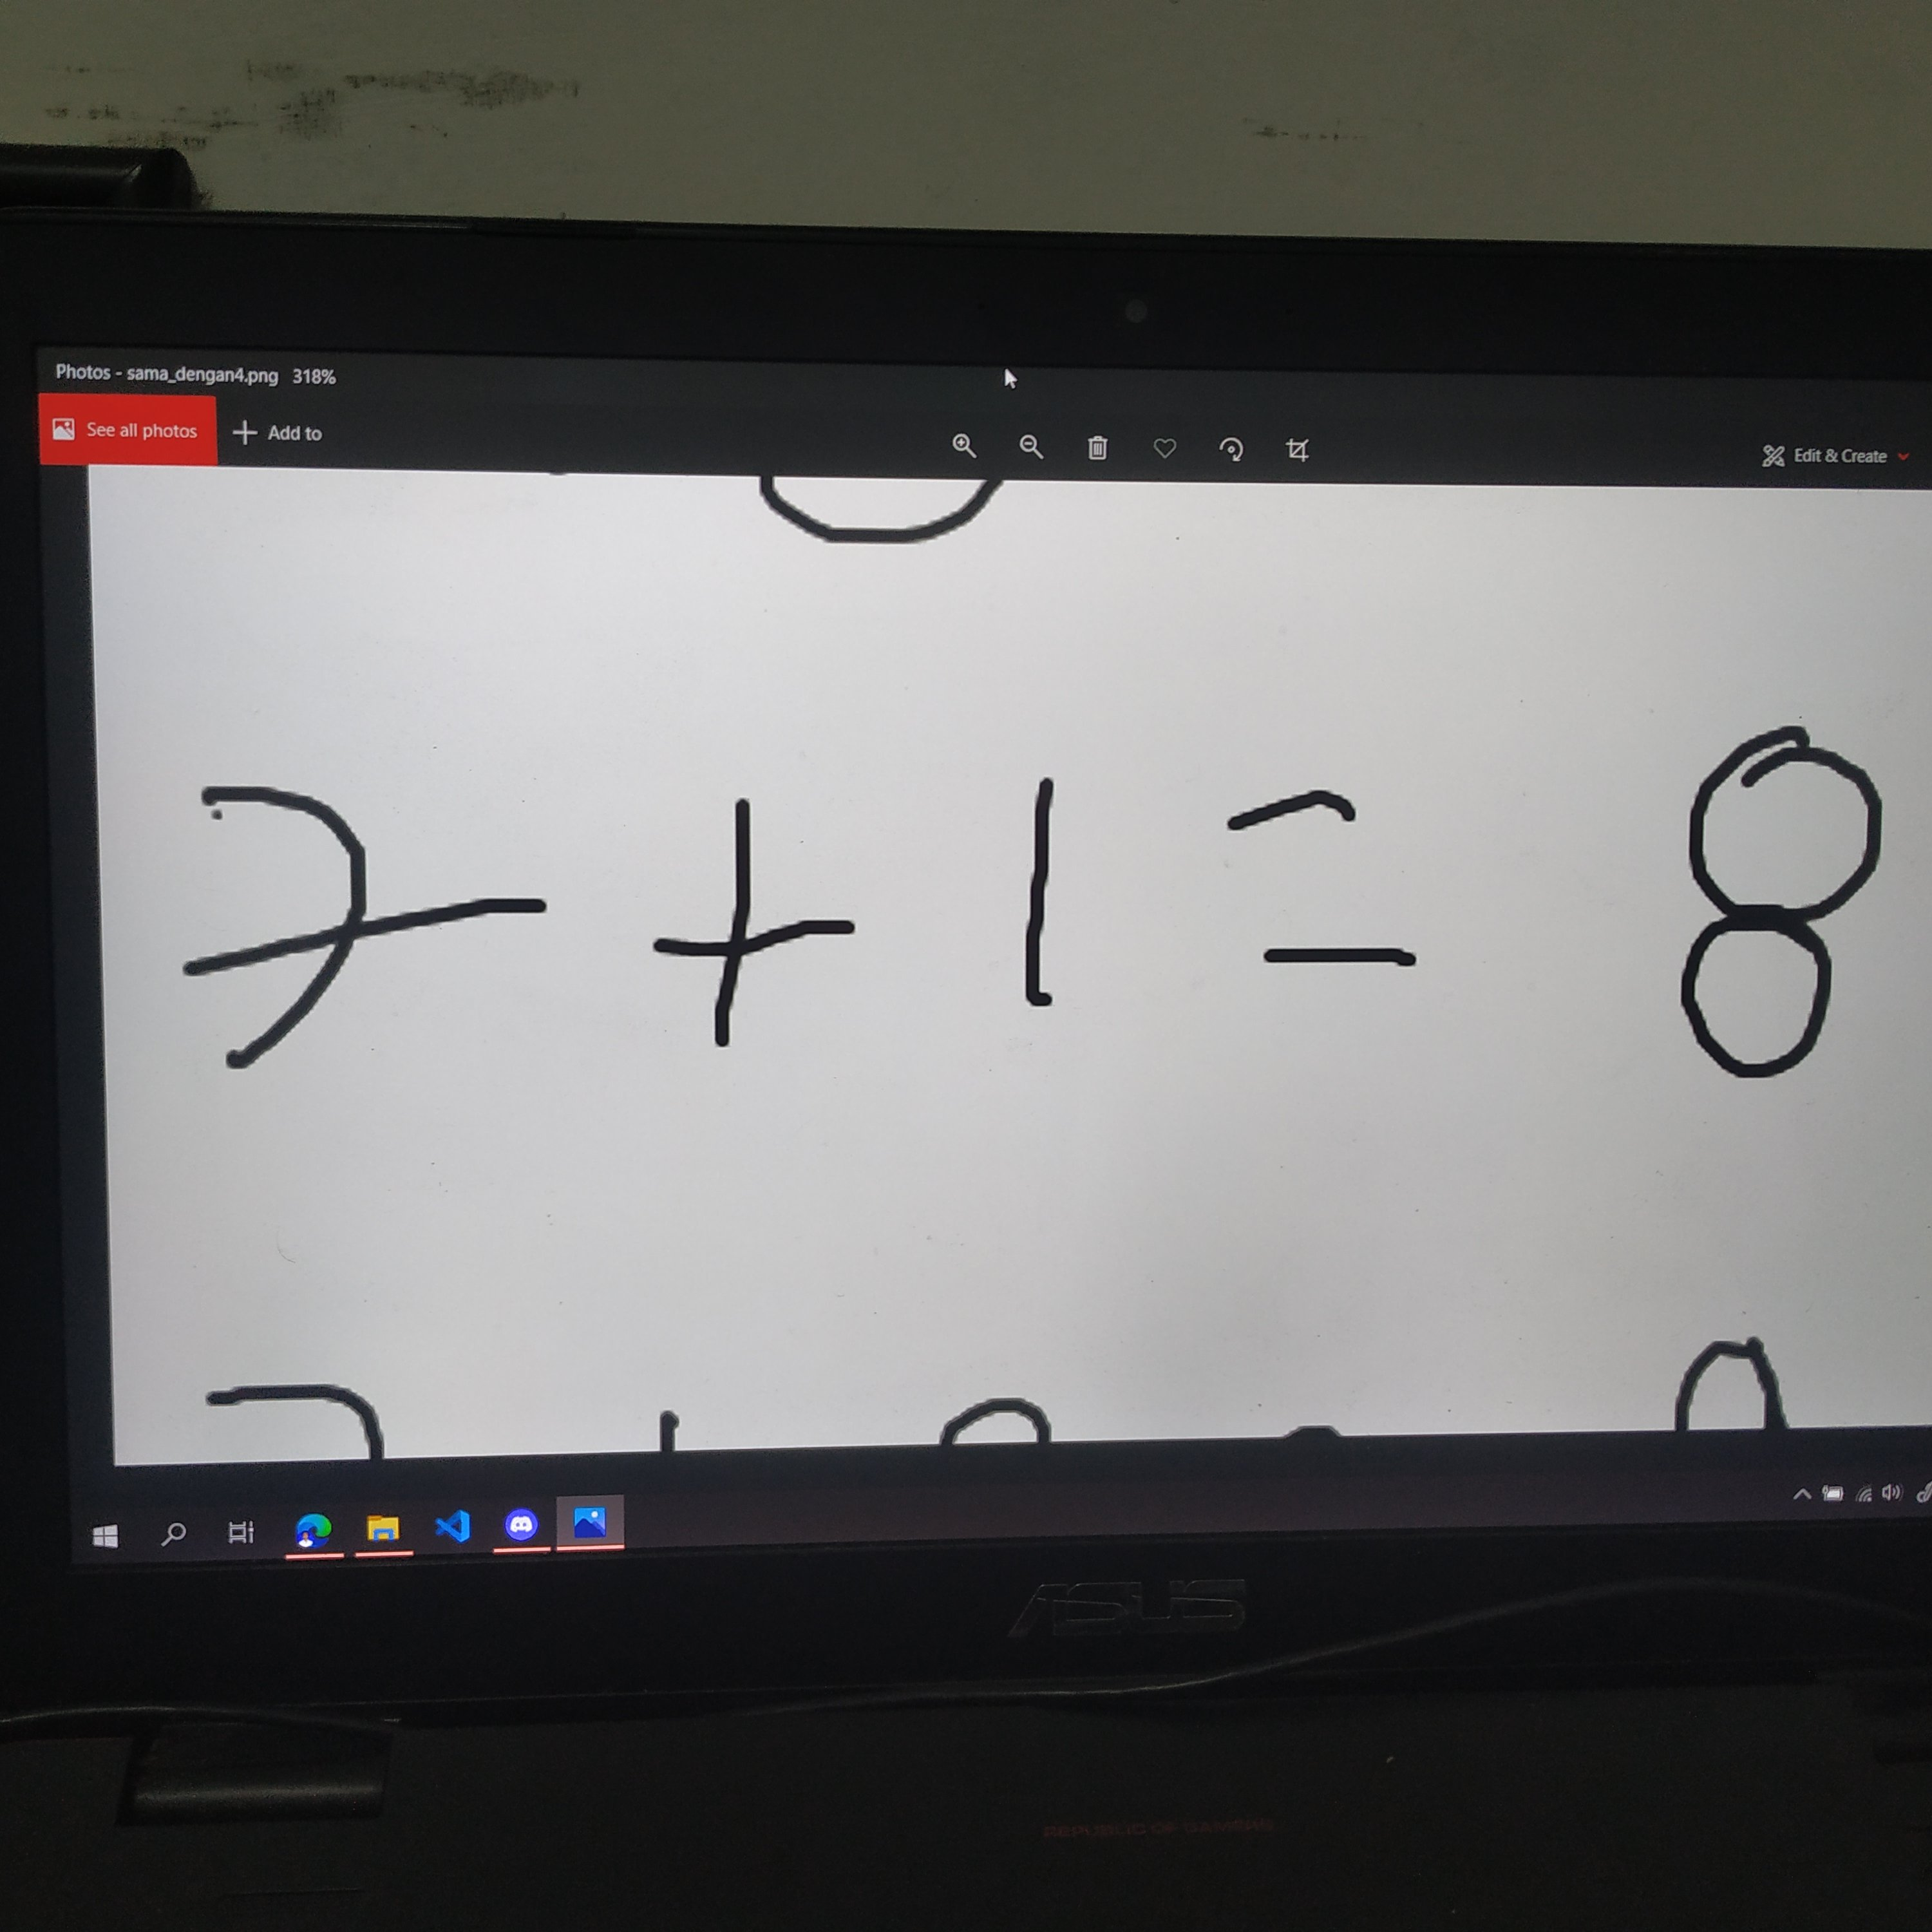equal: (1199, 773, 1438, 990)
num1: (1004, 768, 1083, 1022)
num7: (156, 752, 576, 1097)
num8: (1633, 714, 1911, 1099)
sum: (634, 785, 879, 1059)
